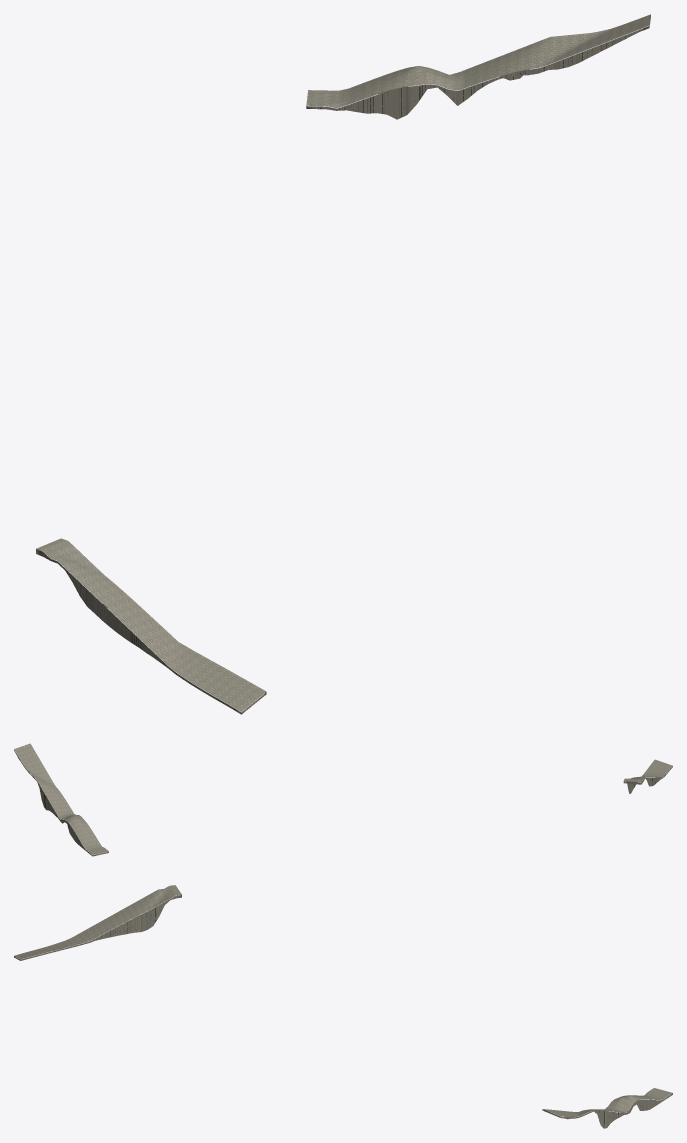
The model's file is mirror-bank-access.glb.
3 views of the same model, one above another, from view 1: azimuth 30°, elevation 25°; view 2: azimuth 150°, elevation 25°; view 3: azimuth 270°, elevation 25° (orthographic). The views are drawn at different scales.
Parts seen in each view (by area): view 1: Walk_Mirror_BankRamp_Sanctuary, Walk_Mirror_BankRamp_Quay, Mirror_BankRamp_Foundation_Quay, Mirror_BankRamp_Foundation_Sanctuary; view 2: Walk_Mirror_BankRamp_Quay, Mirror_BankRamp_Foundation_Quay, Walk_Mirror_BankRamp_Sanctuary, Mirror_BankRamp_Foundation_Sanctuary; view 3: Walk_Mirror_BankRamp_Sanctuary, Mirror_BankRamp_Foundation_Sanctuary, Walk_Mirror_BankRamp_Quay, Mirror_BankRamp_Foundation_Quay.
Boxes of the visible parts, x1=… form: Walk_Mirror_BankRamp_Sanctuary: x1=36, y1=538, x2=266, y2=711; Walk_Mirror_BankRamp_Quay: x1=306, y1=14, x2=650, y2=108; Mirror_BankRamp_Foundation_Quay: x1=306, y1=16, x2=650, y2=119; Mirror_BankRamp_Foundation_Sanctuary: x1=36, y1=549, x2=266, y2=714; Walk_Mirror_BankRamp_Quay: x1=14, y1=743, x2=108, y2=854; Mirror_BankRamp_Foundation_Quay: x1=14, y1=749, x2=108, y2=856; Walk_Mirror_BankRamp_Sanctuary: x1=623, y1=759, x2=672, y2=782; Mirror_BankRamp_Foundation_Sanctuary: x1=623, y1=766, x2=672, y2=793; Walk_Mirror_BankRamp_Sanctuary: x1=14, y1=885, x2=181, y2=959; Mirror_BankRamp_Foundation_Sanctuary: x1=14, y1=895, x2=181, y2=960; Walk_Mirror_BankRamp_Quay: x1=543, y1=1088, x2=672, y2=1117; Mirror_BankRamp_Foundation_Quay: x1=542, y1=1093, x2=672, y2=1128.
Bounding box in the file's own units: 105 × 17.29 × 106.
Materials: 1 (1 with a texture image).
